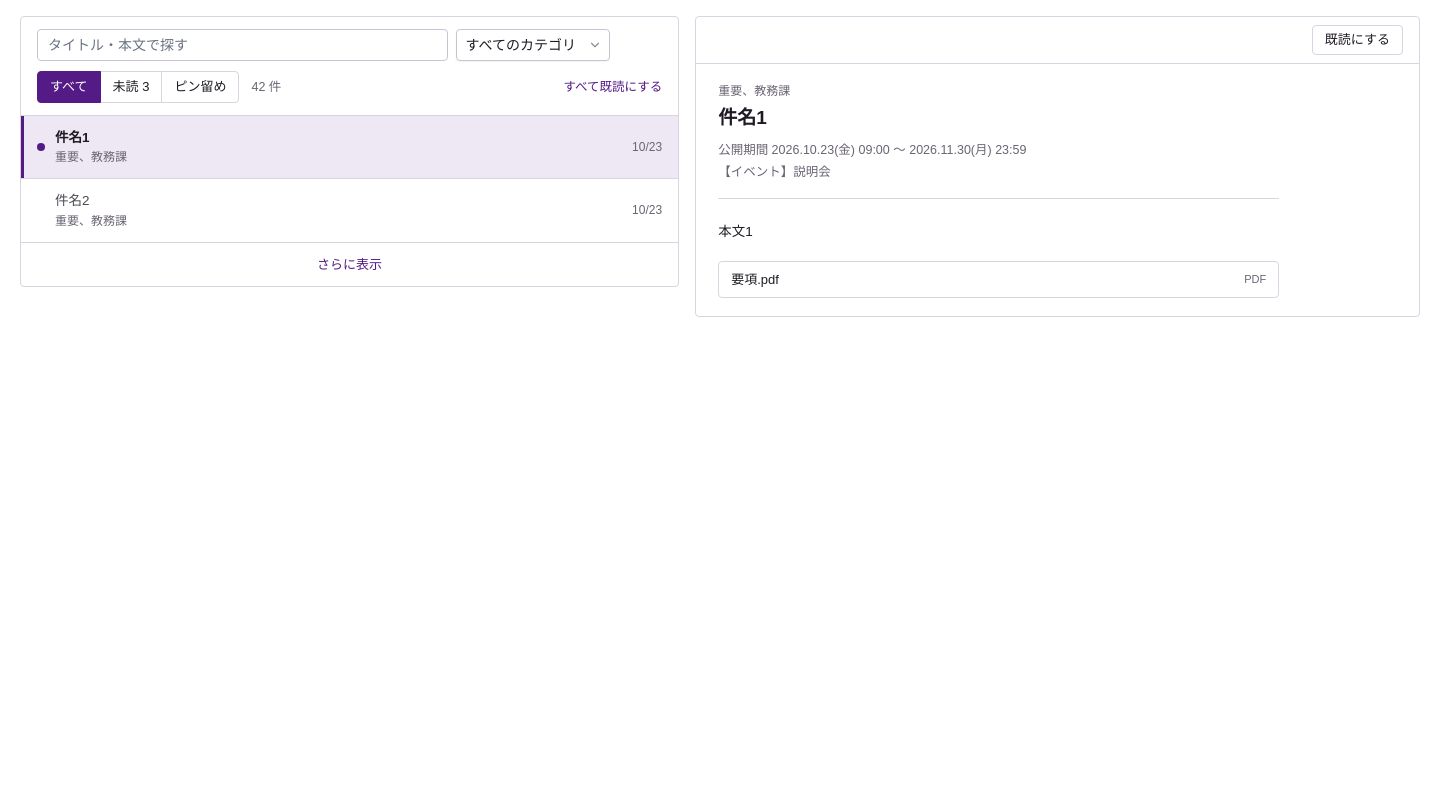
既読にする: PUT して未読の数が減り、ボタンが替わる。すべて既読は確認してから
Step 1. Click the button "既読にする" → click(1357, 40), box [1312,25,1403,55]
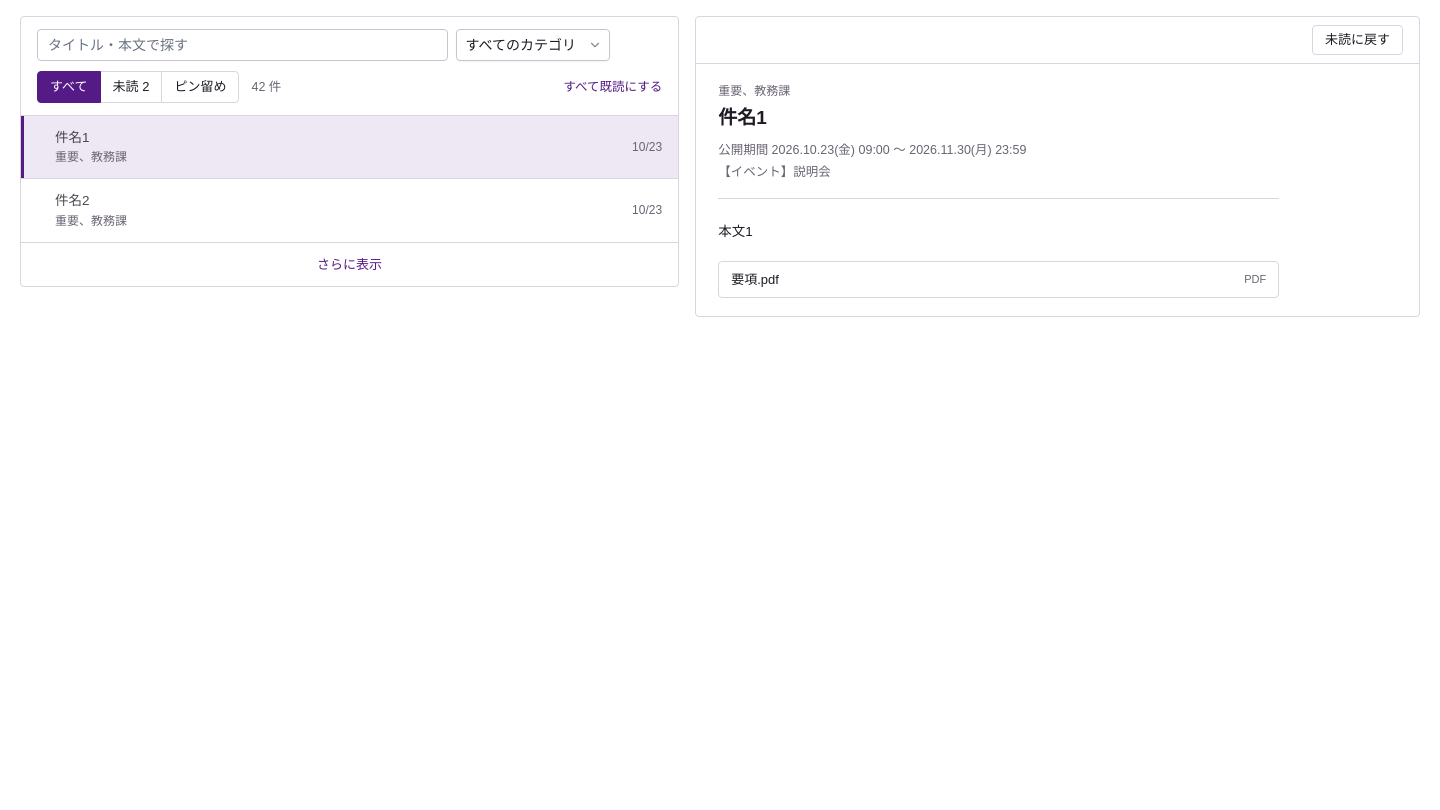
Result: the element named "詳細" shows "未読に戻す" at [1312,25,1403,55]
Result: the text "未読 2" is shown at [100,71,162,103]
Step 2. Click the button "すべて既読にする" → click(613, 87), box [563,78,662,96]
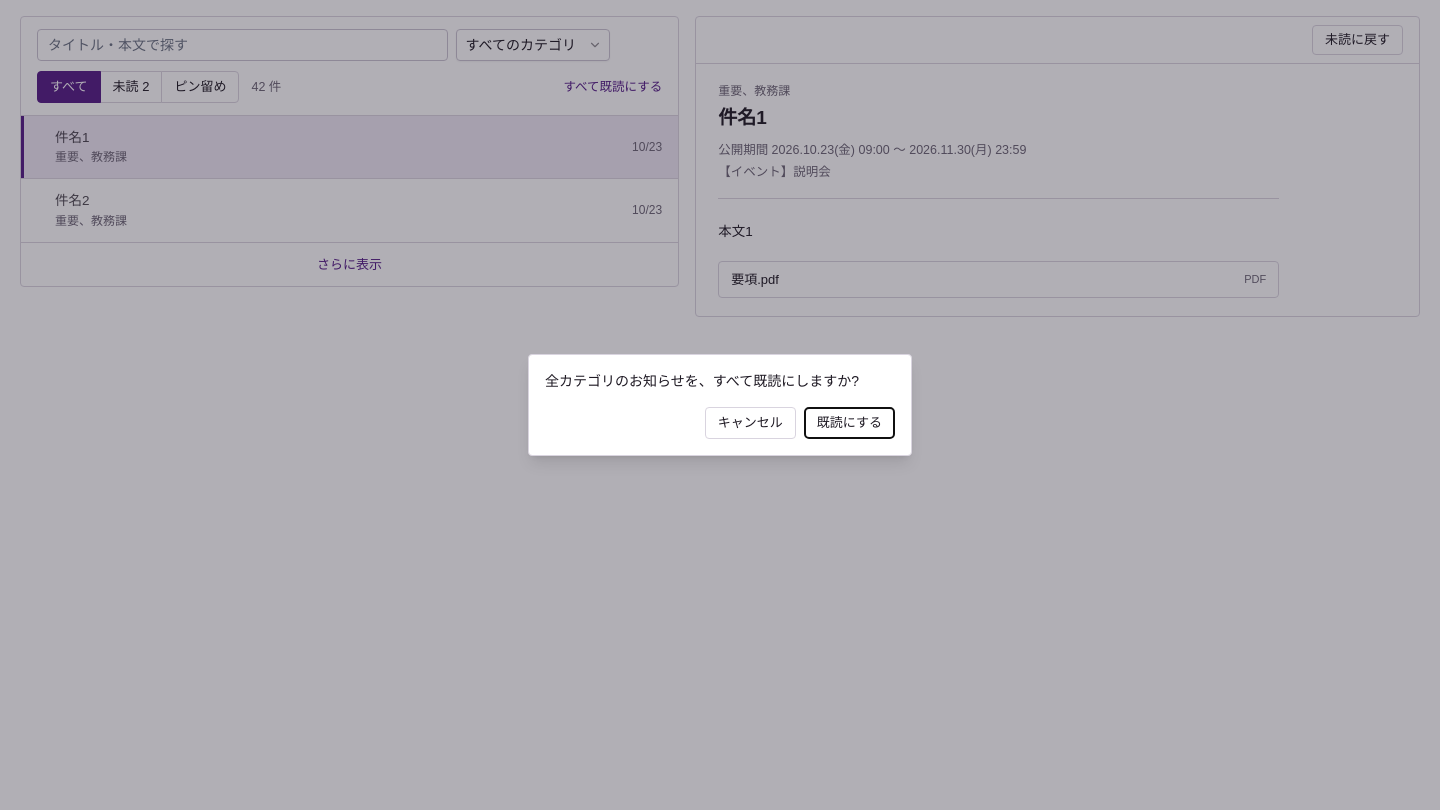
Result: the dialog shows "全カテゴリのお知らせを、すべて既読にしますか?" at [528,354,912,456]
Step 3. Click the button "既読にする" → click(849, 423), box [804,407,895,439]
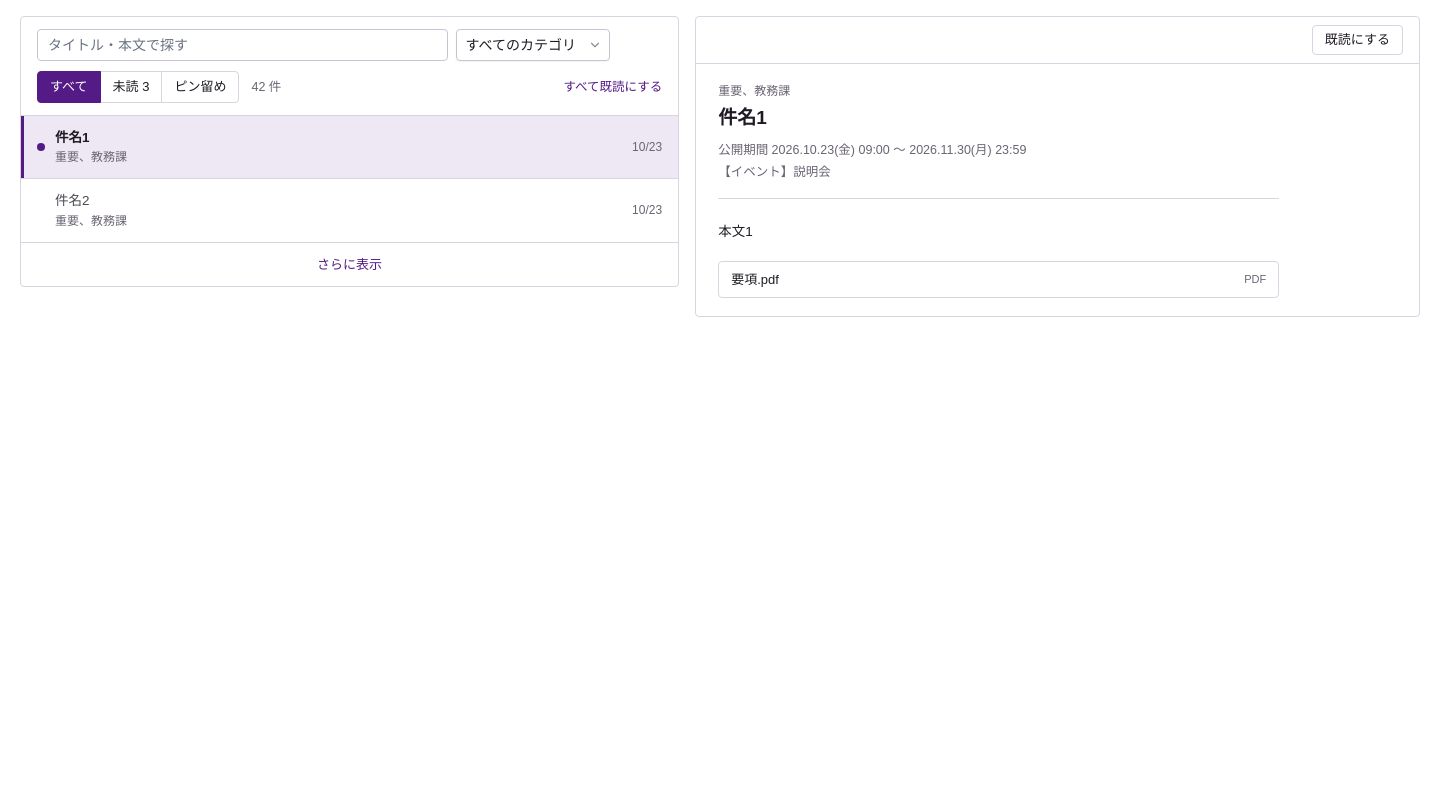
Result: the dialog is gone
